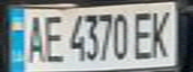0: (112, 9, 133, 61)
3: (81, 11, 100, 62)
4: (63, 10, 84, 62)
7: (96, 10, 115, 62)
A: (21, 11, 48, 64)
E: (130, 7, 157, 61), (39, 11, 66, 64)
K: (145, 6, 178, 60)
